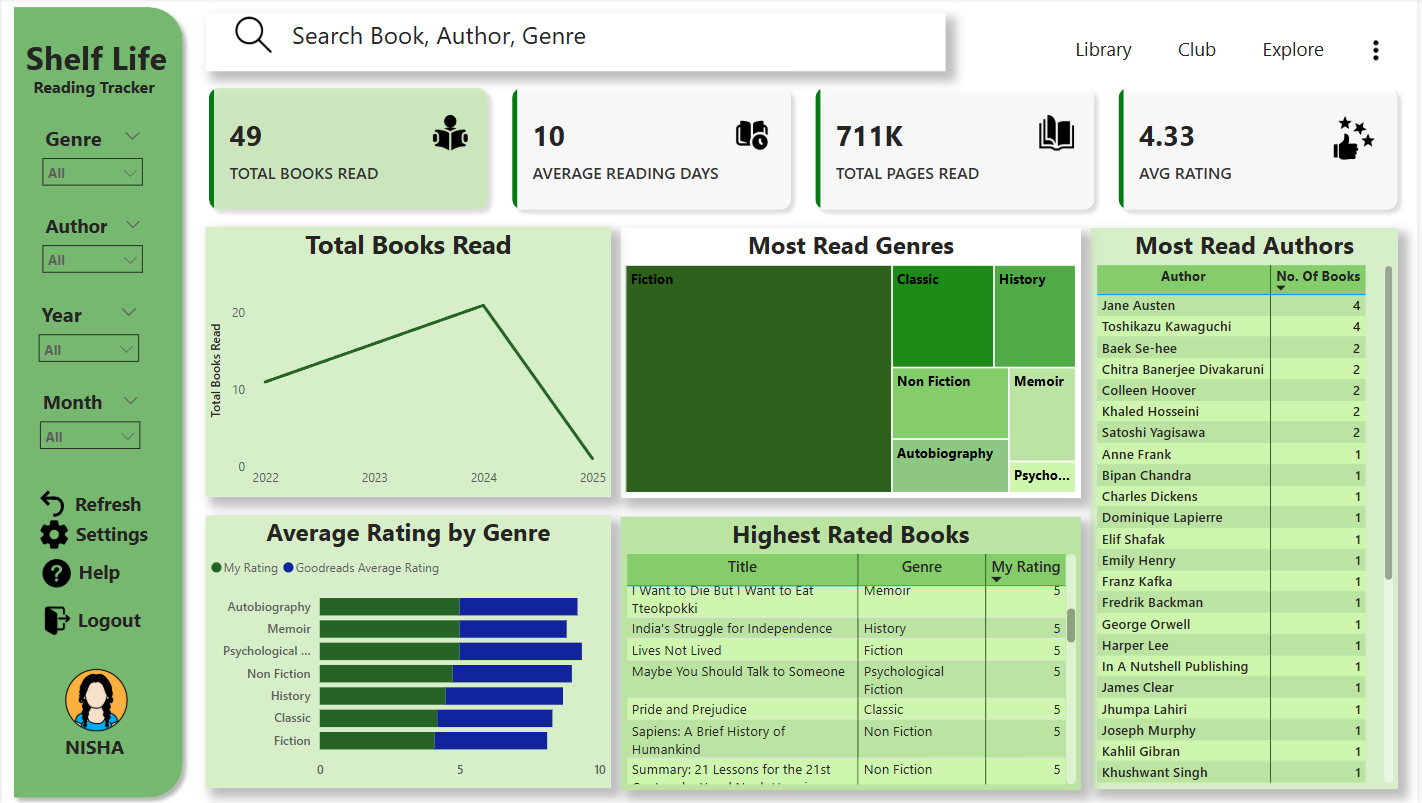

Layout of this report page (visuals, bound fields, positions):
{"tool":"powerbi","page":{"name":"Page 1","canvas":[1400,800],"ordinal":0},"visuals":[{"type":"shape","box":[2.7,0,185.4,800.3],"z":0},{"type":"textbox","box":[12.3,32.7,162.2,107.7],"z":1000},{"type":"textbox","box":[0,72.3,173.1,47.7],"z":2000},{"type":"cardVisual","fields":{"Data":["year_wise_clean_data.Total Books Read","Avg(year_wise_clean_data.reading_duration)","Sum(year_wise_clean_data.Total Pages Read)","Avg(year_wise_clean_data.Average_myRating)"]},"box":[188.1,72.3,1212,155.4],"z":3000},{"type":"lineChart","title":"Total Books Read ","fields":{"Category":["year_wise_clean_data.Year Read"],"Y":["year_wise_clean_data.Total Books Read"]},"box":[201.8,226.3,400.8,267.2],"z":4000},{"type":"treemap","title":"Most Read Genres ","fields":{"Group":["year_wise_clean_data.Genre"],"Values":["CountNonNull(year_wise_clean_data.Genre)"]},"box":[612.1,227.7,455.4,267.2],"z":5000},{"type":"barChart","title":"Average Rating by Genre","fields":{"Category":["year_wise_clean_data.Genre"],"Y":["Avg(year_wise_clean_data.My Rating)","Avg(year_wise_clean_data.Average Rating)"]},"box":[201.8,512.6,400.8,269.9],"z":6000},{"type":"tableEx","title":"Most Read Authors","fields":{"Values":["year_wise_clean_data.Author","CountNonNull(year_wise_clean_data.Author)"]},"box":[1077,227.7,304,554.9],"z":7000},{"type":"tableEx","title":"Highest Rated Books","fields":{"Values":["year_wise_clean_data.Title","year_wise_clean_data.Genre","year_wise_clean_data.My Rating"]},"box":[612,513,455,270],"z":8000},{"type":"textbox","title":"Search Book, Author, Genre","box":[201.8,15,732.1,57.3],"z":9000},{"type":"image","box":[219.5,0,60,72.3],"z":10000},{"type":"textbox","box":[1036.1,32.7,364,39.5],"z":11000},{"type":"image","box":[1338.8,32.7,42.3,39.5],"z":12000},{"type":"slicer","fields":{"Values":["year_wise_clean_data.Genre"]},"box":[30,120,120,87.3],"z":12001},{"type":"slicer","fields":{"Values":["year_wise_clean_data.Author"]},"box":[30,207.2,120,87.3],"z":12002},{"type":"slicer","fields":{"Values":["year_wise_clean_data.Year Read"]},"box":[25.9,294.5,120,87.3],"z":12003},{"type":"textbox","box":[12.3,512.6,162.2,38.2],"z":12004},{"type":"image","box":[27.3,512.6,49.1,38.2],"z":12005},{"type":"textbox","box":[12.3,550.8,162.2,46.4],"z":12006},{"type":"image","box":[30,550.8,49.1,38.2],"z":12007},{"type":"textbox","box":[30,597.1,144.5,50.4],"z":12008},{"type":"image","box":[32.7,597.1,46.4,38.2],"z":12009},{"type":"textbox","box":[12.3,723.9,145.9,58.6],"z":12010},{"type":"image","box":[47.7,657.1,90,76.3],"z":12011},{"type":"slicer","fields":{"Values":["DateTable.Month"]},"box":[27.3,381.7,120,87.3],"z":12012},{"type":"actionButton","title":"Refresh","box":[32.7,482.6,57.3,35.4],"z":12013},{"type":"textbox","box":[61.4,482.6,96.8,39.5],"z":12014}]}

Visuals, with their boxes in screenshot pixels (x1, y1, x2, y2), scaled from the page's 1400x800 canvas onto the 1422x803 screenshot:
shape: [x1=3, y1=0, x2=191, y2=802]
textbox: [x1=12, y1=33, x2=177, y2=141]
textbox: [x1=0, y1=73, x2=176, y2=120]
cardVisual - year_wise_clean_data.Total Books Read x Avg(year_wise_clean_data.reading_duration): [x1=191, y1=73, x2=1421, y2=229]
"Total Books Read " lineChart: [x1=205, y1=227, x2=612, y2=495]
"Most Read Genres " treemap: [x1=622, y1=229, x2=1084, y2=497]
"Average Rating by Genre" barChart: [x1=205, y1=515, x2=612, y2=785]
"Most Read Authors" tableEx: [x1=1094, y1=229, x2=1403, y2=786]
"Highest Rated Books" tableEx: [x1=622, y1=515, x2=1084, y2=786]
"Search Book, Author, Genre" textbox: [x1=205, y1=15, x2=949, y2=73]
image: [x1=223, y1=0, x2=284, y2=73]
textbox: [x1=1052, y1=33, x2=1421, y2=72]
image: [x1=1360, y1=33, x2=1403, y2=72]
slicer - year_wise_clean_data.Genre: [x1=30, y1=120, x2=152, y2=208]
slicer - year_wise_clean_data.Author: [x1=30, y1=208, x2=152, y2=296]
slicer - year_wise_clean_data.Year Read: [x1=26, y1=296, x2=148, y2=383]
textbox: [x1=12, y1=515, x2=177, y2=553]
image: [x1=28, y1=515, x2=78, y2=553]
textbox: [x1=12, y1=553, x2=177, y2=599]
image: [x1=30, y1=553, x2=80, y2=591]
textbox: [x1=30, y1=599, x2=177, y2=650]
image: [x1=33, y1=599, x2=80, y2=638]
textbox: [x1=12, y1=727, x2=161, y2=785]
image: [x1=48, y1=660, x2=140, y2=736]
slicer - DateTable.Month: [x1=28, y1=383, x2=150, y2=471]
"Refresh" actionButton: [x1=33, y1=484, x2=91, y2=520]
textbox: [x1=62, y1=484, x2=161, y2=524]
